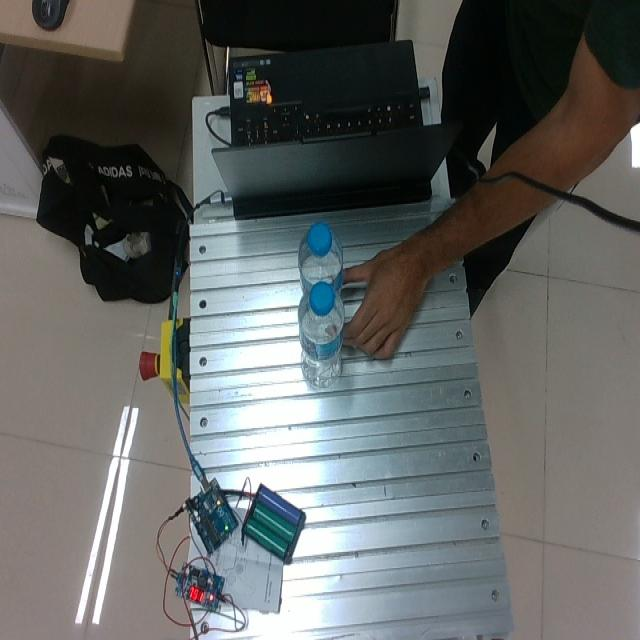lavie: (298, 282, 345, 389), (297, 223, 345, 301)
